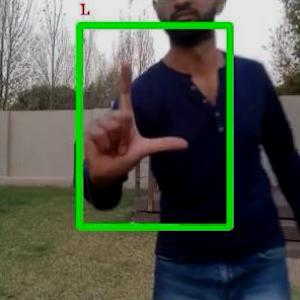land_hand: (81, 48, 192, 186)
